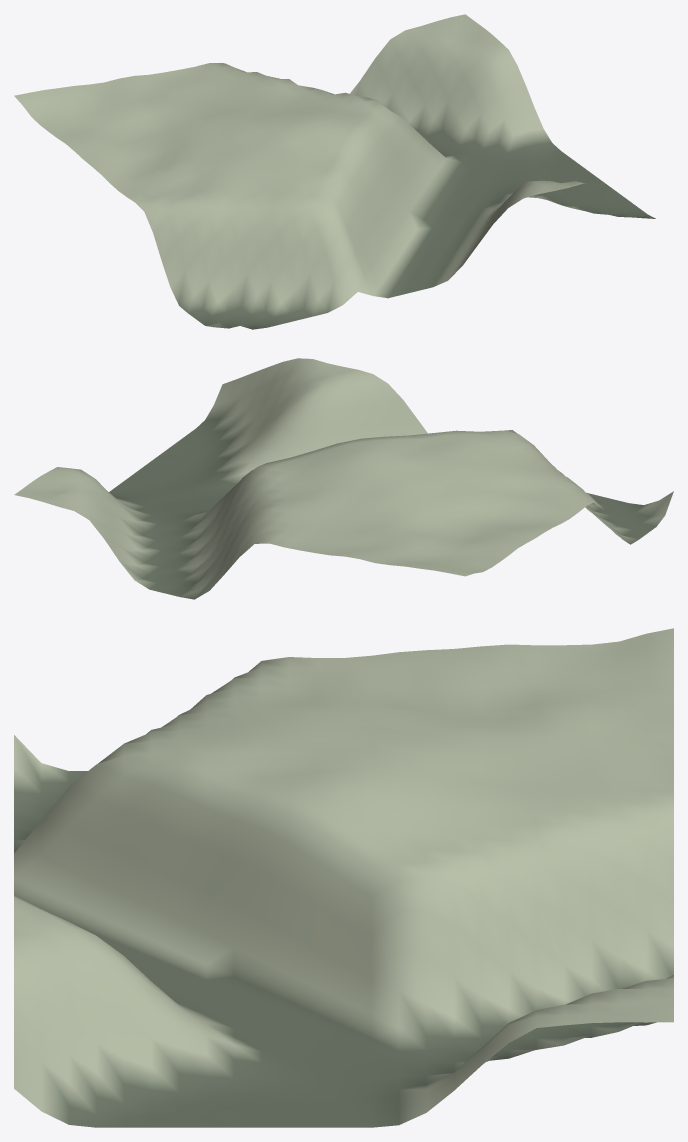
3 views of the same model, one above another, from view 1: azimuth 30°, elevation 25°; view 2: azimuth 150°, elevation 25°; view 3: azimuth 270°, elevation 25° (orthographic). The views are drawn at different scales.
Parts seen in each view (by area): view 1: world-ground/120-48; view 2: world-ground/120-48; view 3: world-ground/120-48.
Part boxes in pixels (x1,y1,x2,y2): world-ground/120-48: (14,14,655,329); world-ground/120-48: (14,358,673,599); world-ground/120-48: (14,628,673,1127).
Bounding box in the file's own units: 37.5 × 7.56 × 30.
